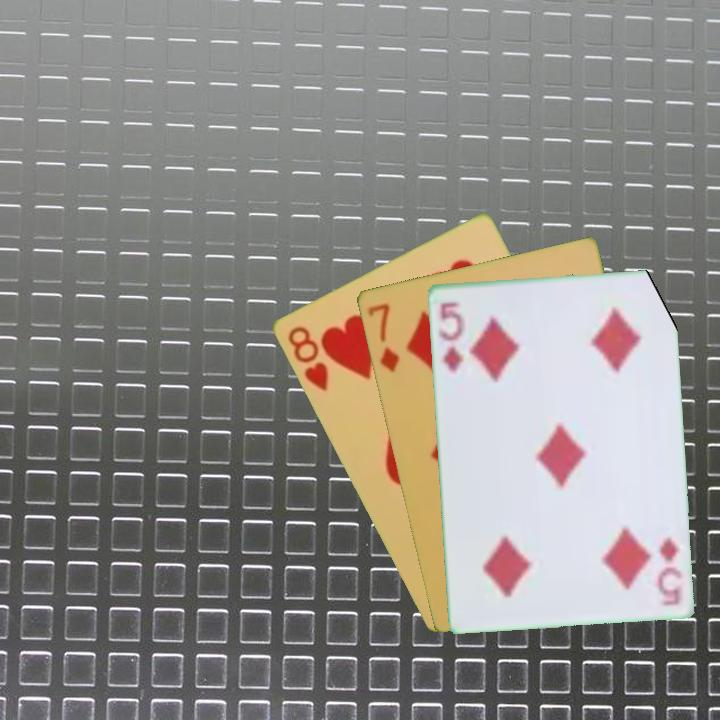5d: (435, 298, 466, 376), (654, 533, 685, 608)
7d: (363, 299, 402, 375)
8h: (283, 322, 331, 395)
